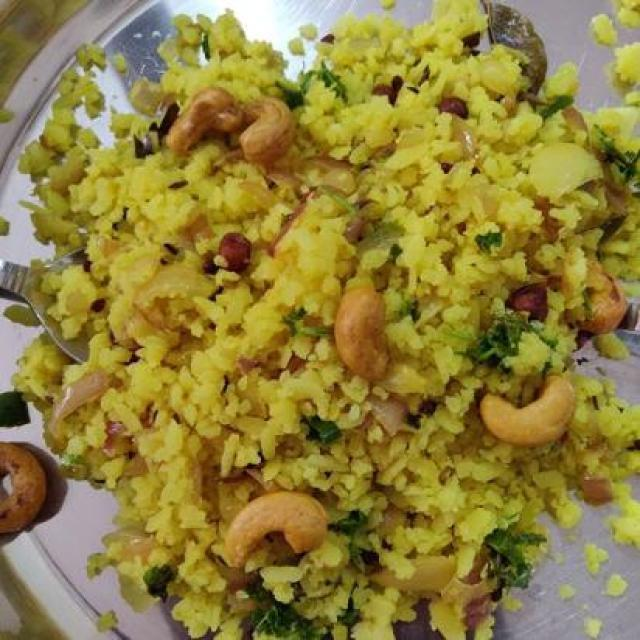poha: (41, 64, 599, 596)
